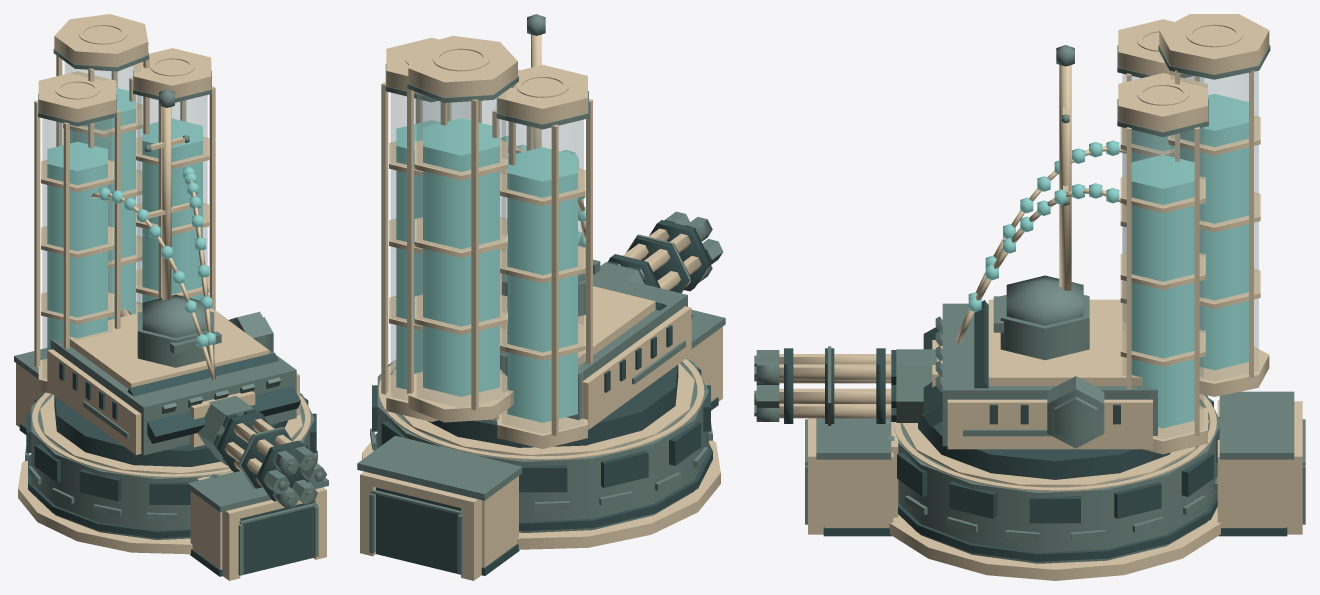
The model's file is Machinegoon_T3.glb.
3 views of the same model, side by side, from view 1: azimuth 30°, elevation 25°; view 2: azimuth 150°, elevation 25°; view 3: azimuth 270°, elevation 25° (orthographic). The views are drawn at different scales.
Visible parts, largest first — view 1: Machinegoon_T3_Turret, Machinegoon_T3_Base, CapNeon; view 2: Machinegoon_T3_Turret, Machinegoon_T3_Base, CapNeon; view 3: Machinegoon_T3_Turret, Machinegoon_T3_Base, CapNeon.
Boxes of the visible parts, <box> form: Machinegoon_T3_Turret: <box>34,14,326,508</box>; Machinegoon_T3_Base: <box>14,348,328,580</box>; CapNeon: <box>32,23,310,477</box>; Machinegoon_T3_Turret: <box>381,14,723,448</box>; Machinegoon_T3_Base: <box>357,310,725,580</box>; CapNeon: <box>378,46,704,459</box>; Machinegoon_T3_Turret: <box>754,14,1270,479</box>; Machinegoon_T3_Base: <box>805,391,1305,580</box>; CapNeon: <box>893,22,1242,491</box>.
Size of the model in its own units: 3.5 by 5.08 by 5.38.
